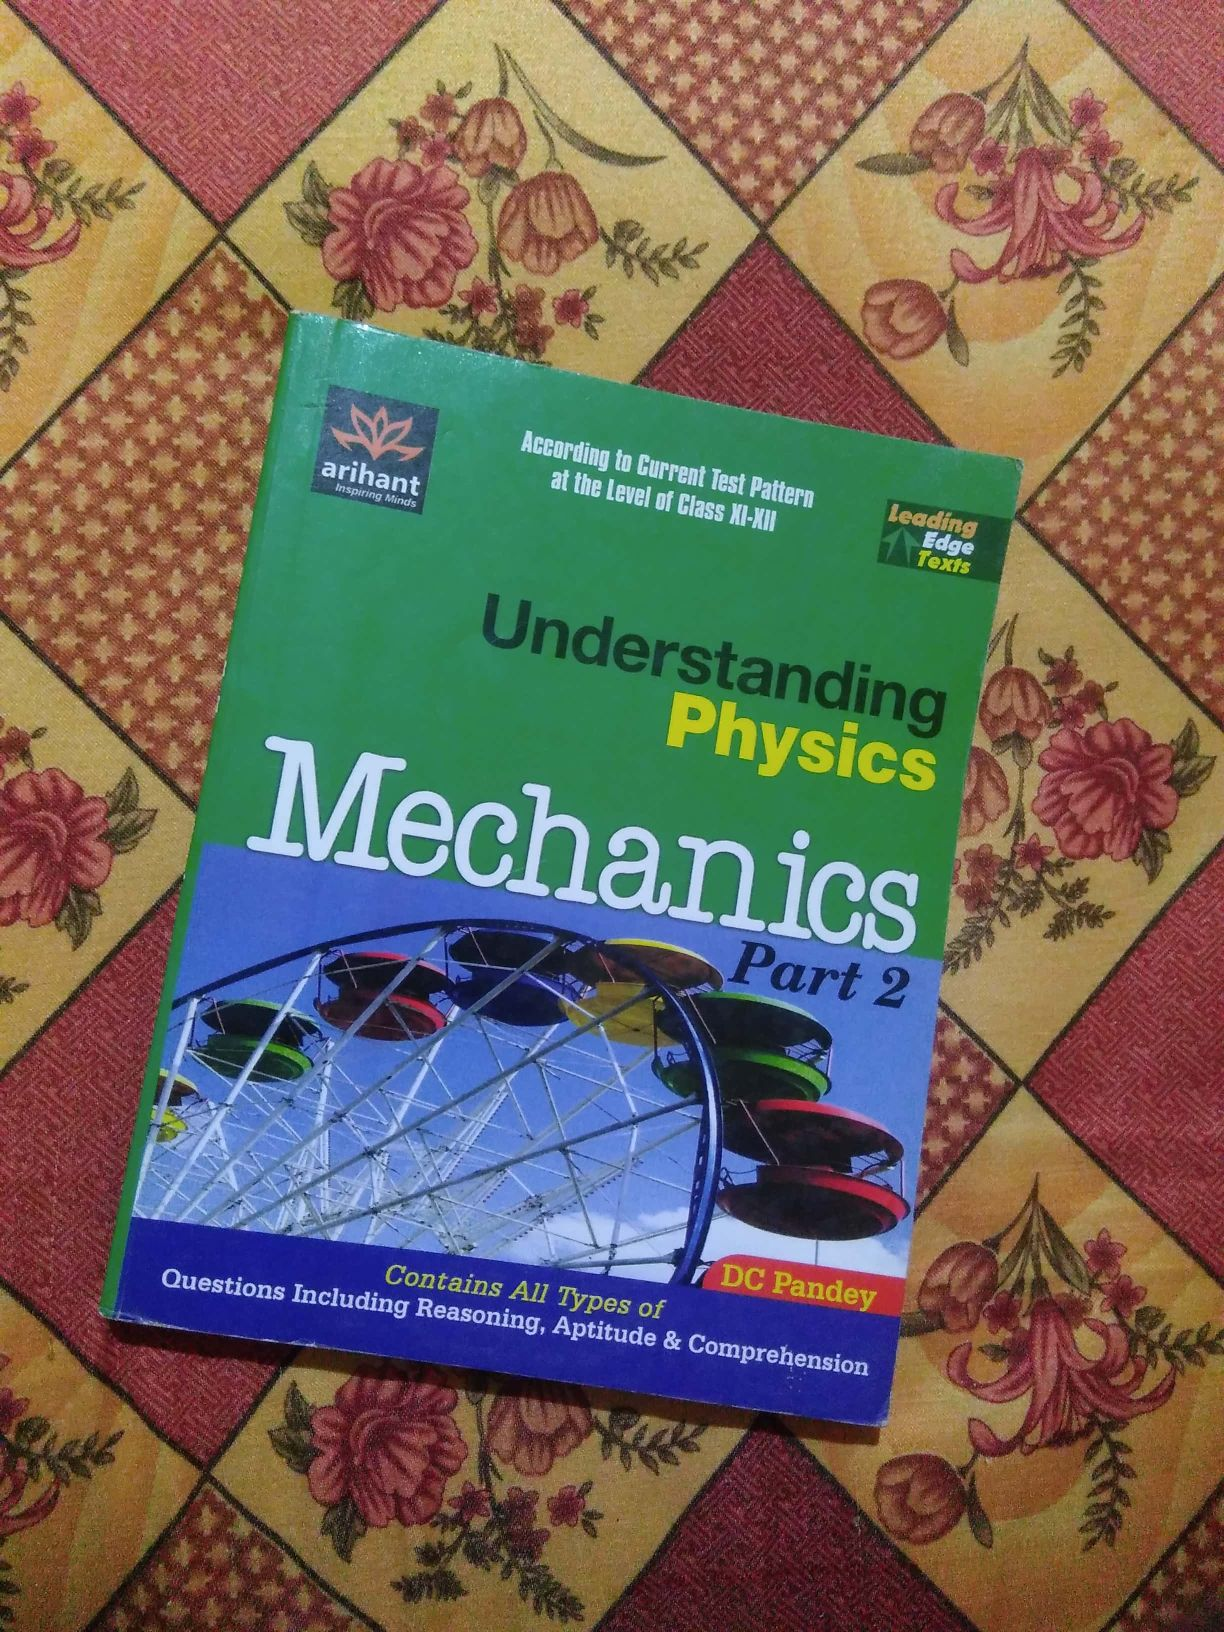mechanics: (103, 278, 1058, 1461)
